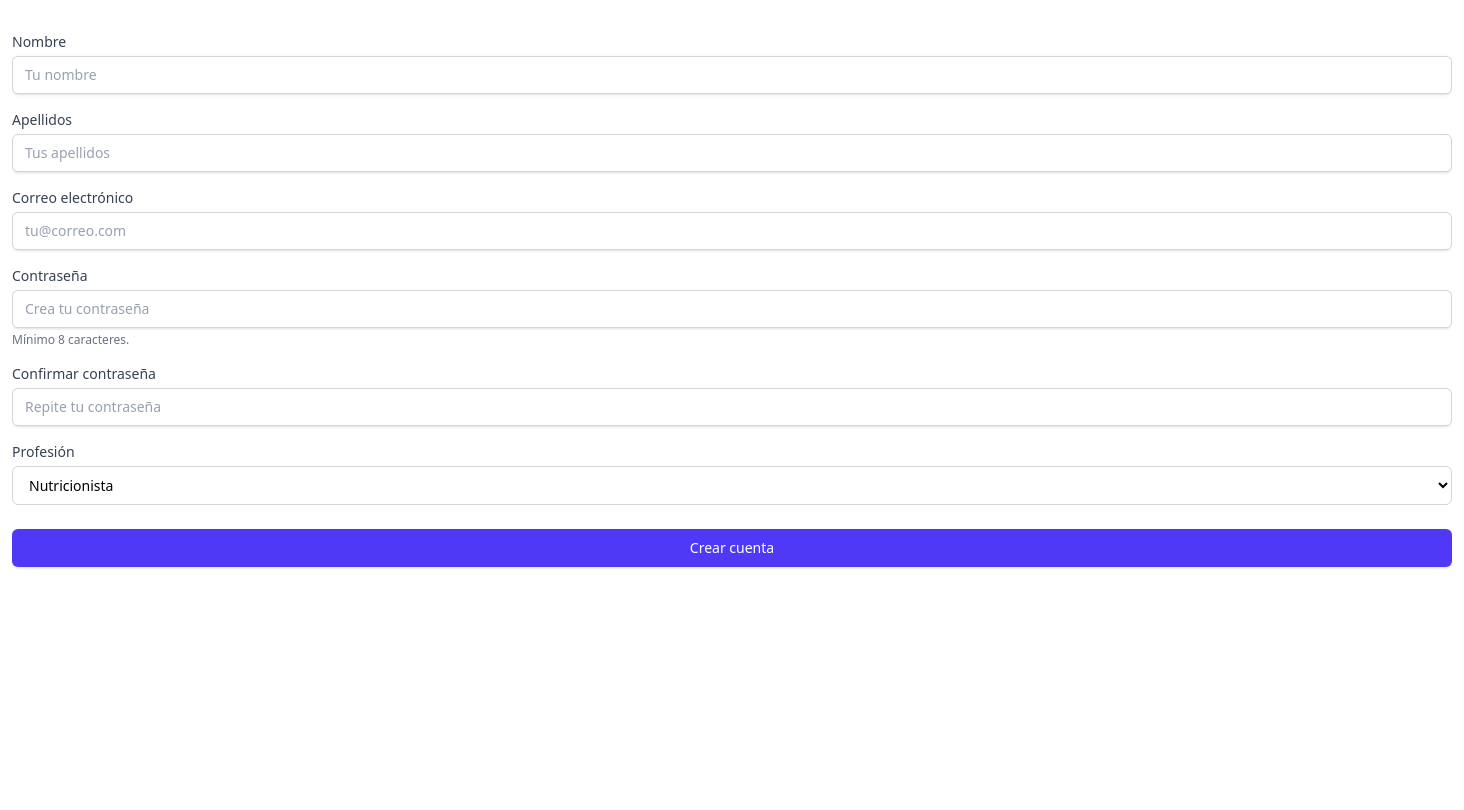
RegisterForm component › handles 409 conflict error (email already registered)
Rellenar el formulario con datos válidos (el email será el que cause conflicto)
Type "Test" into the field labelled "Nombre".
click(732, 75); type("Test")  # box [12,56,1452,94]
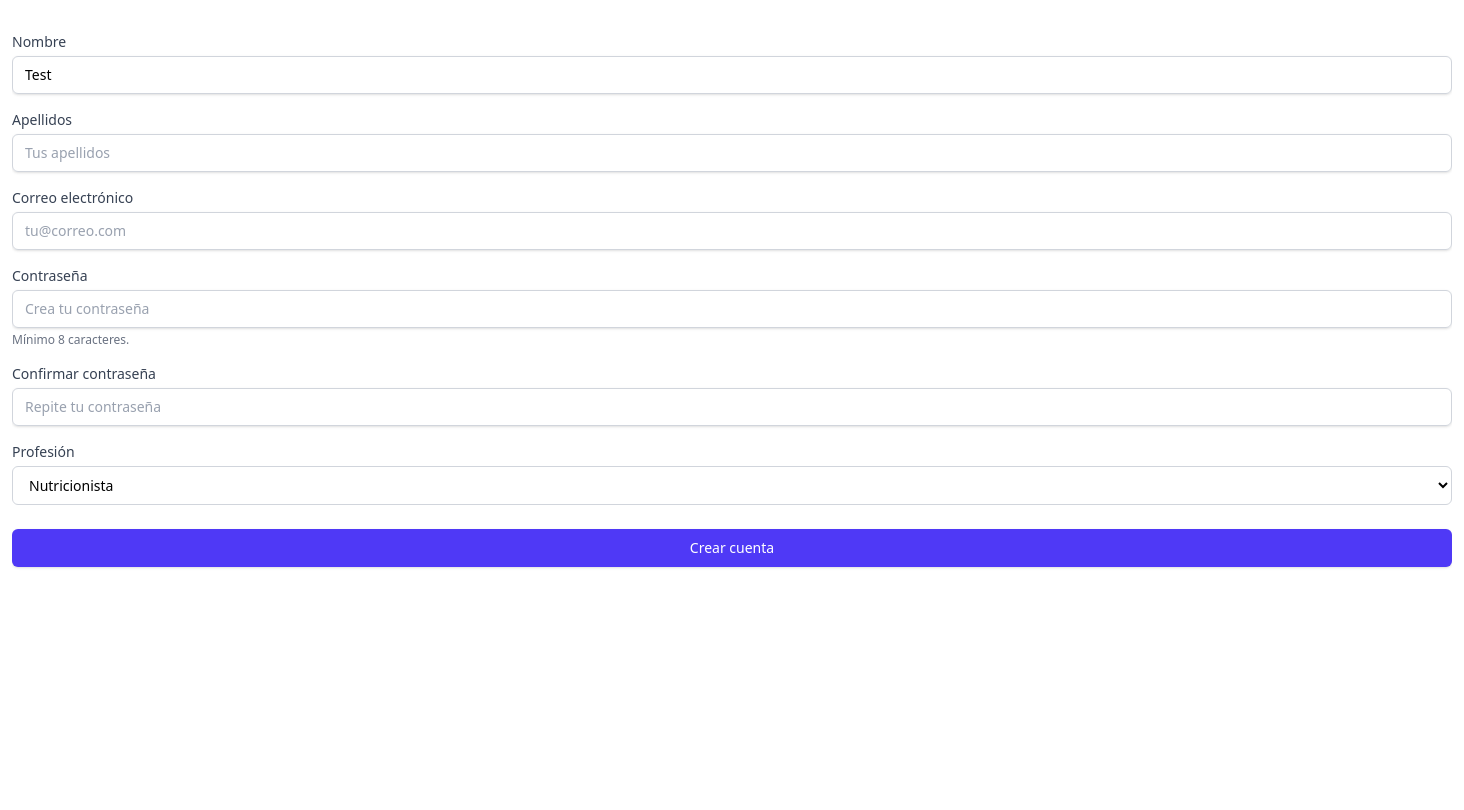
Type "User" into the field labelled "Apellidos".
click(732, 153); type("User")  # box [12,134,1452,172]
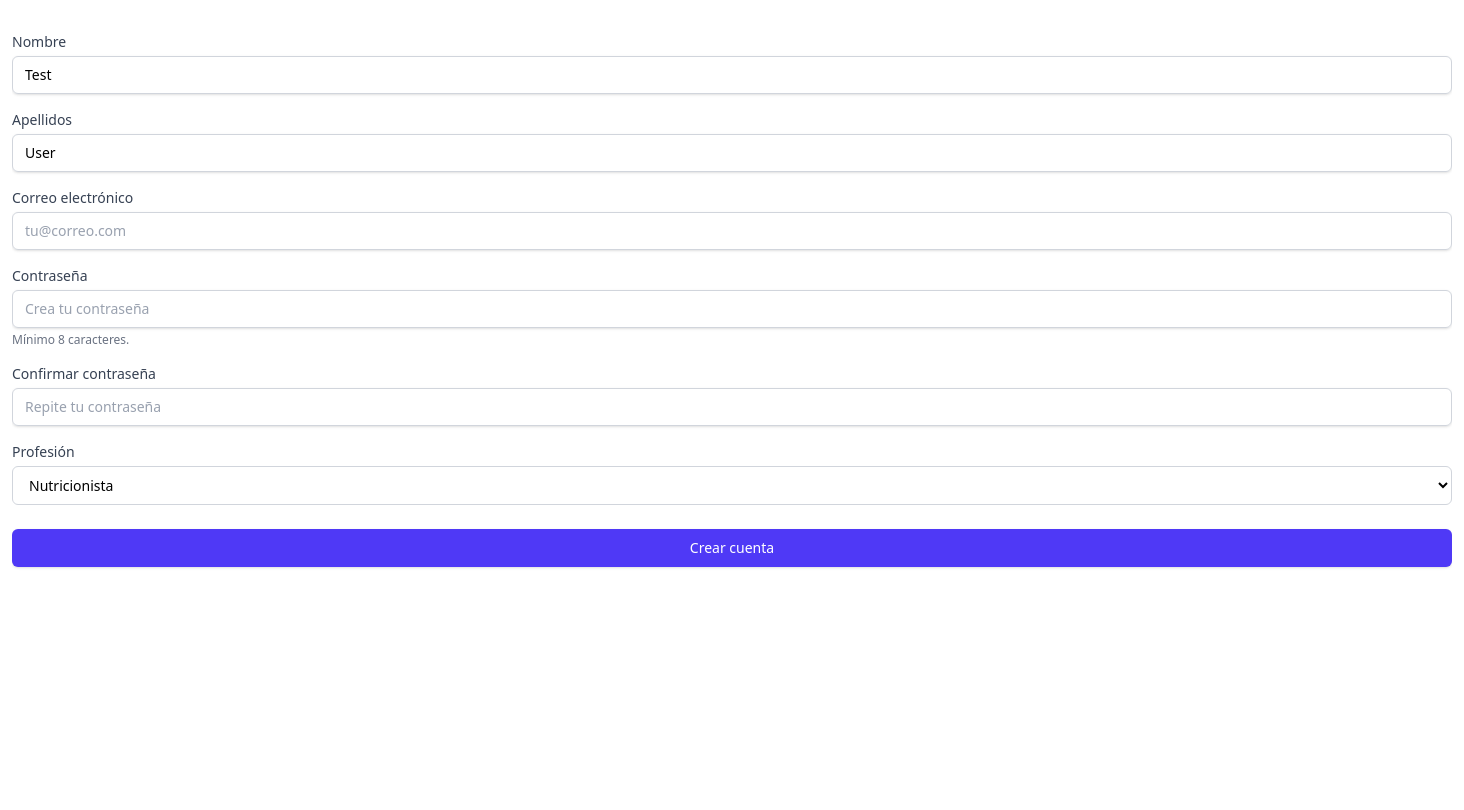
Type "taken@example.com" into the field labelled "Correo electrónico".
click(732, 231); type("taken@example.com")  # box [12,212,1452,250]
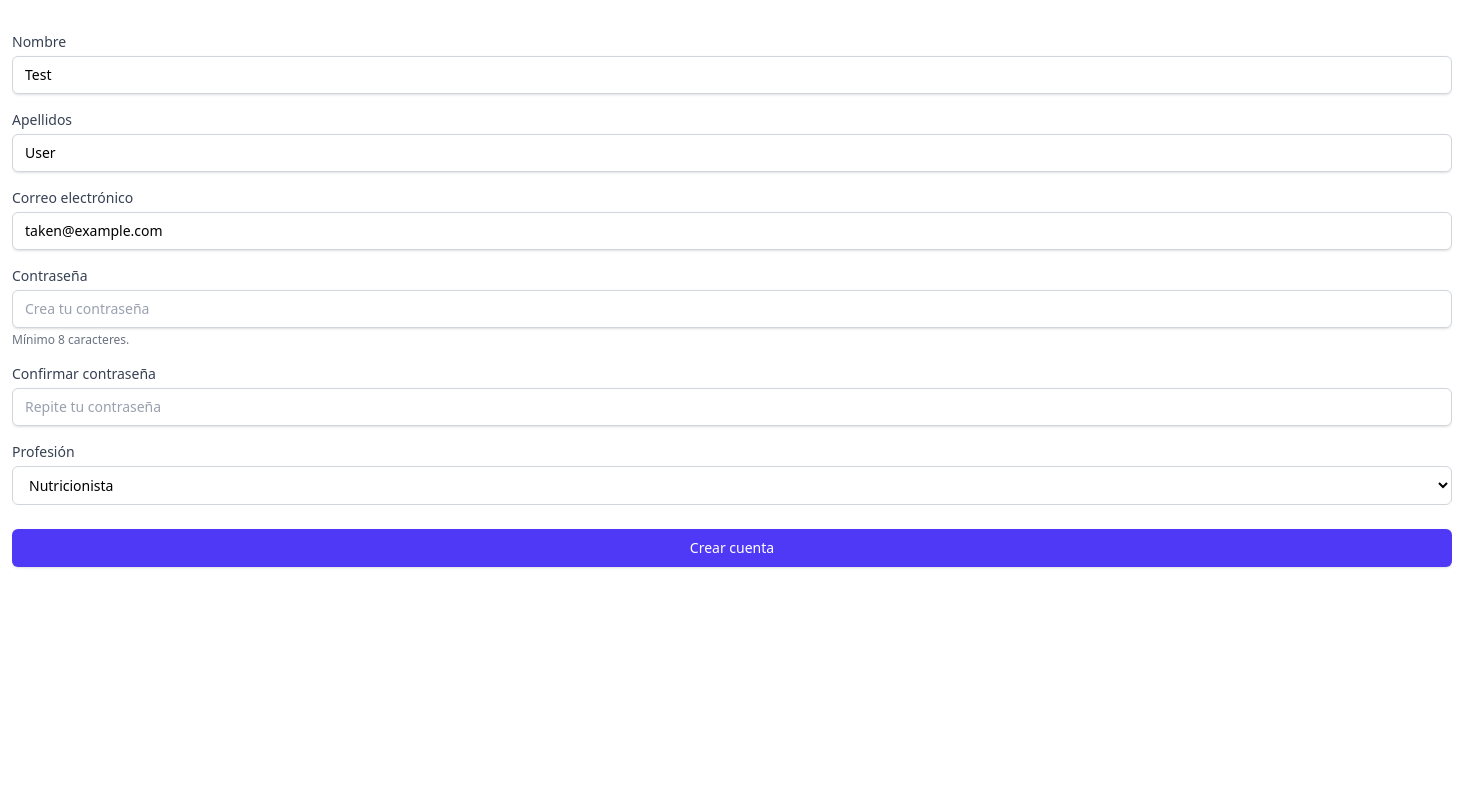
Type "password123" into the password field labelled "Contraseña".
click(732, 309); type("password123")  # box [12,290,1452,328]
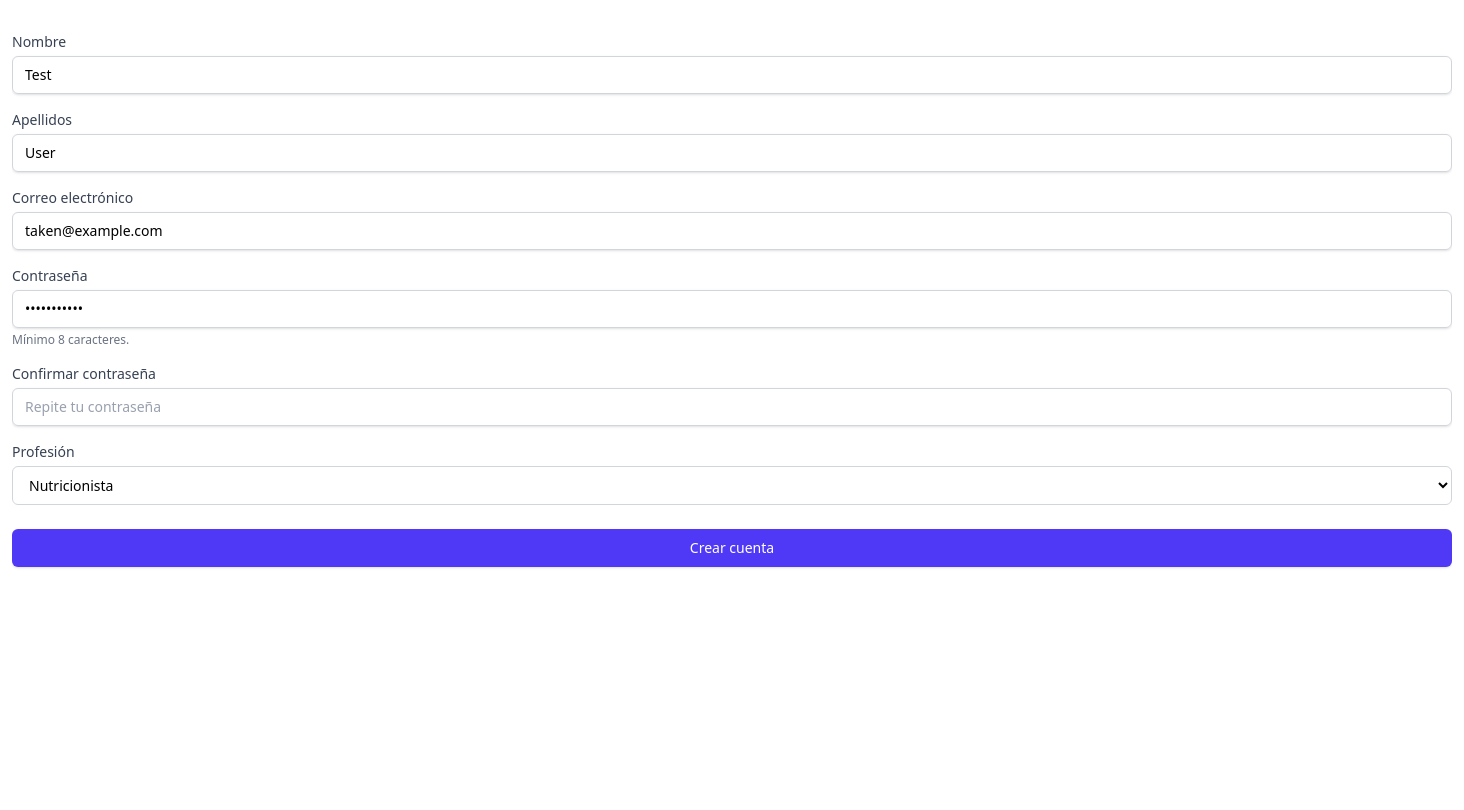
Type "password123" into the password field labelled "Confirmar contraseña".
click(732, 407); type("password123")  # box [12,388,1452,426]
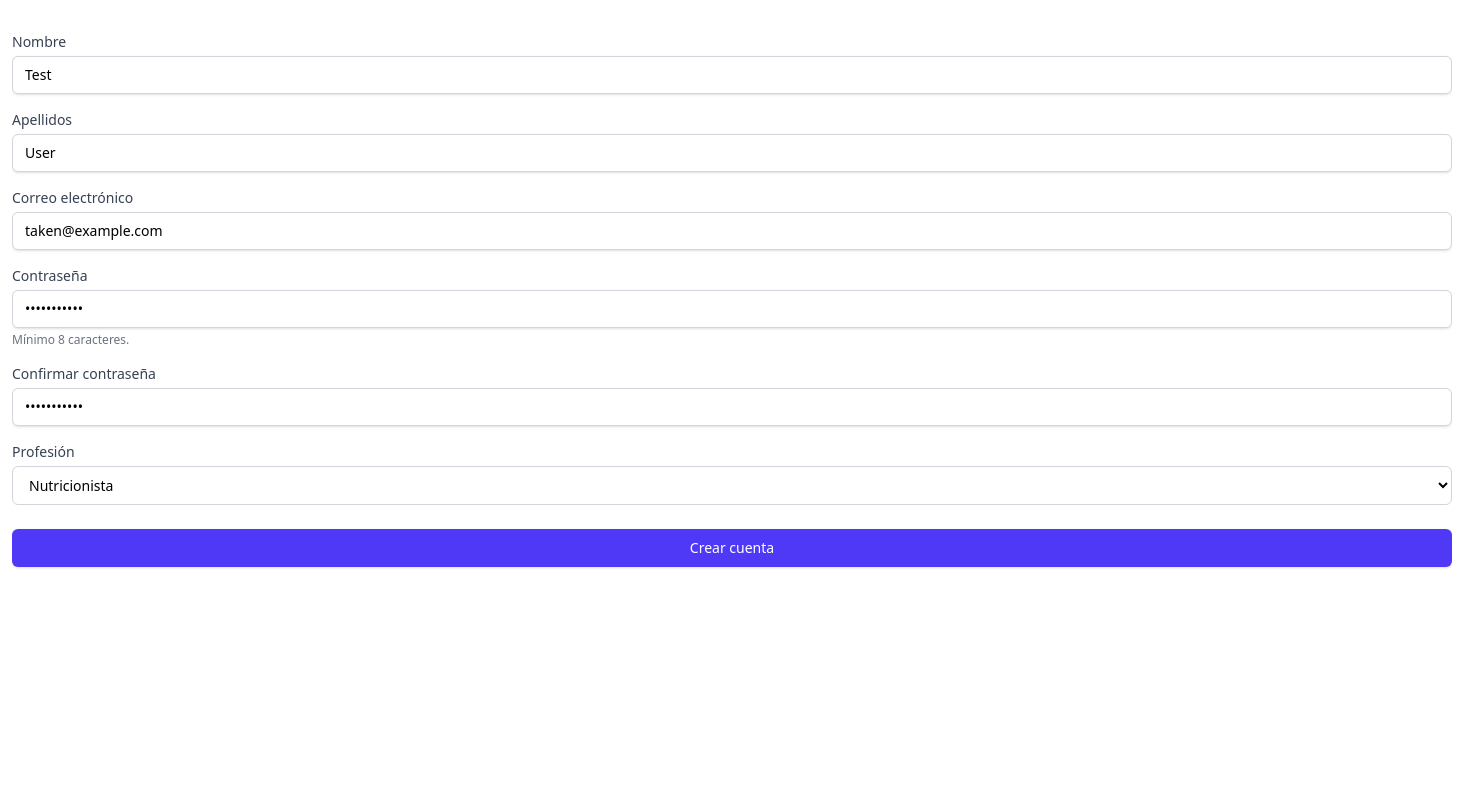
Select "Nutricionista" in the dropdown labelled "Profesión" at [732, 486], box [12,466,1452,505]
Click the button "Crear cuenta".
click(732, 548)  # box [12,529,1452,567]
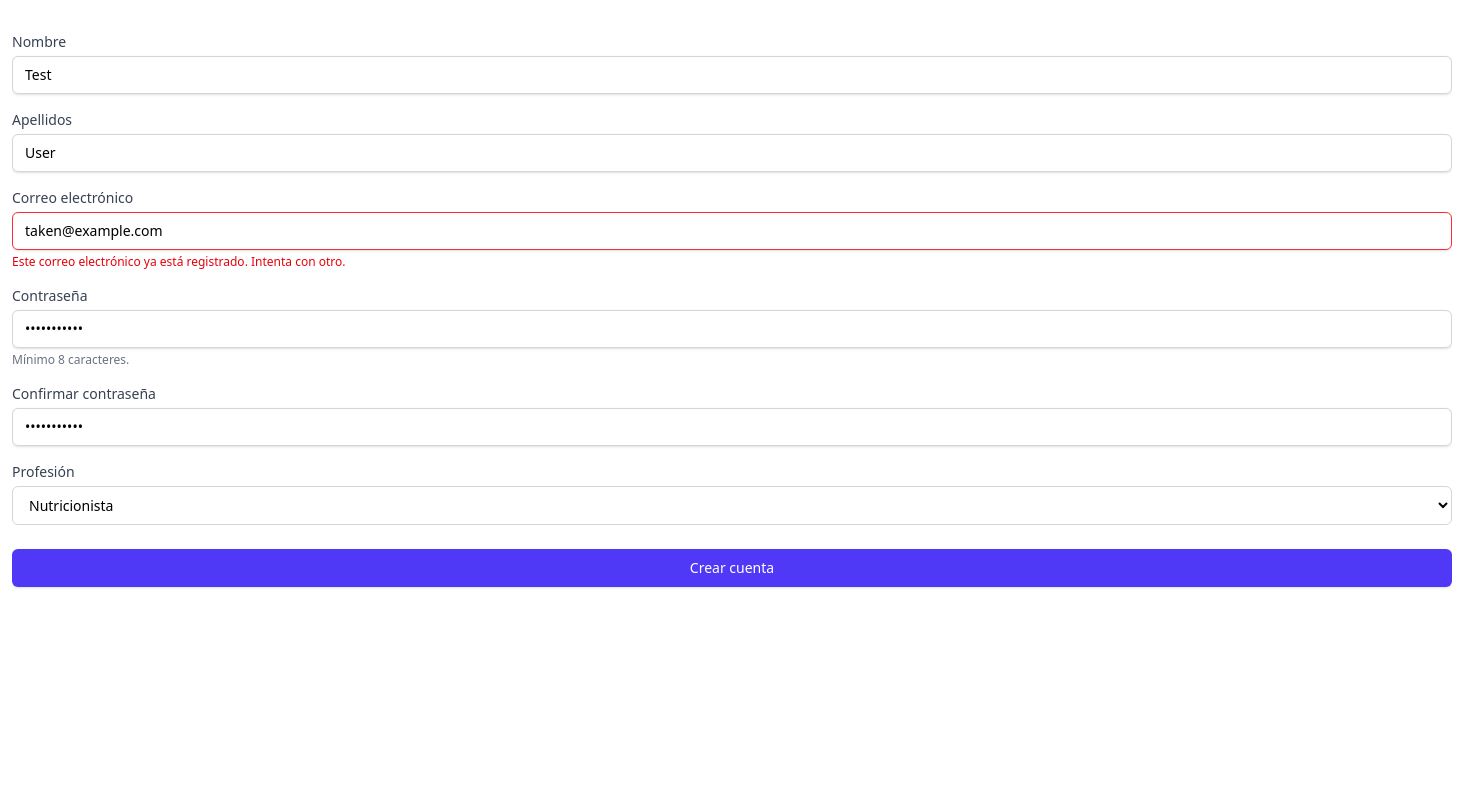
Check: the text "Este correo electrónico ya está registrado. Intenta con otro." is shown, box [12,253,346,270]
